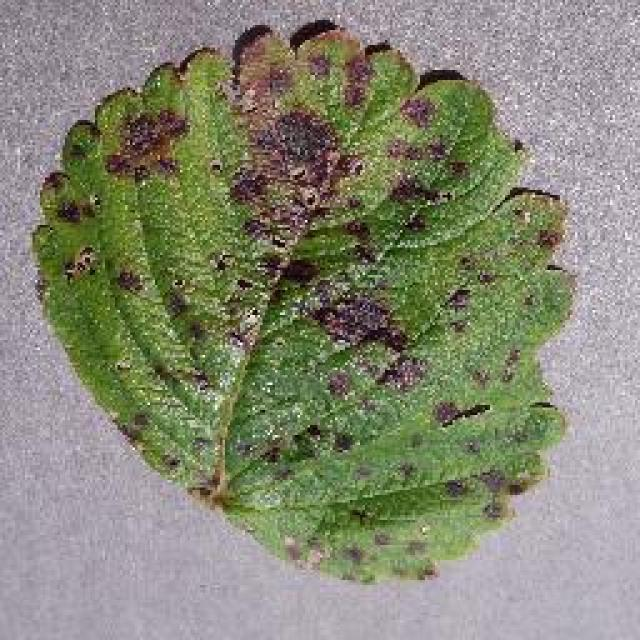Strawberry leaf scorch: (133, 85, 540, 455)
